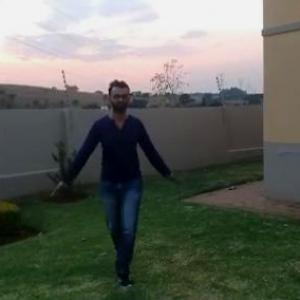land: (42, 69, 188, 294)
